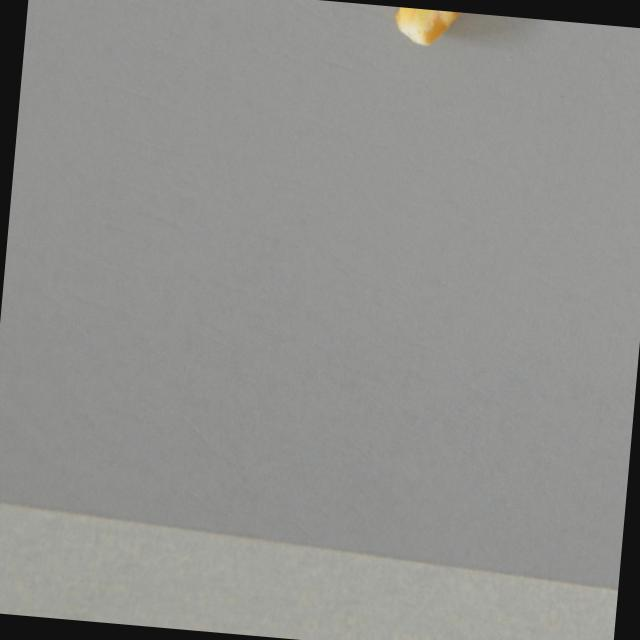dañado: (389, 5, 509, 54)
